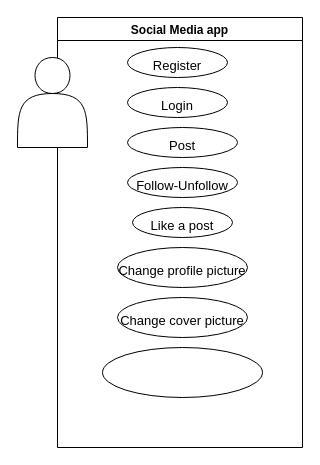
Some shapes in this 320 by 465 pixel diagram are drawn without their labels. Here are the shapes that lost their labels. From the top down, the centre of each, then its label:
At pixel 52 102: "user".
At pixel 182 372: "Send -Receive messages".
